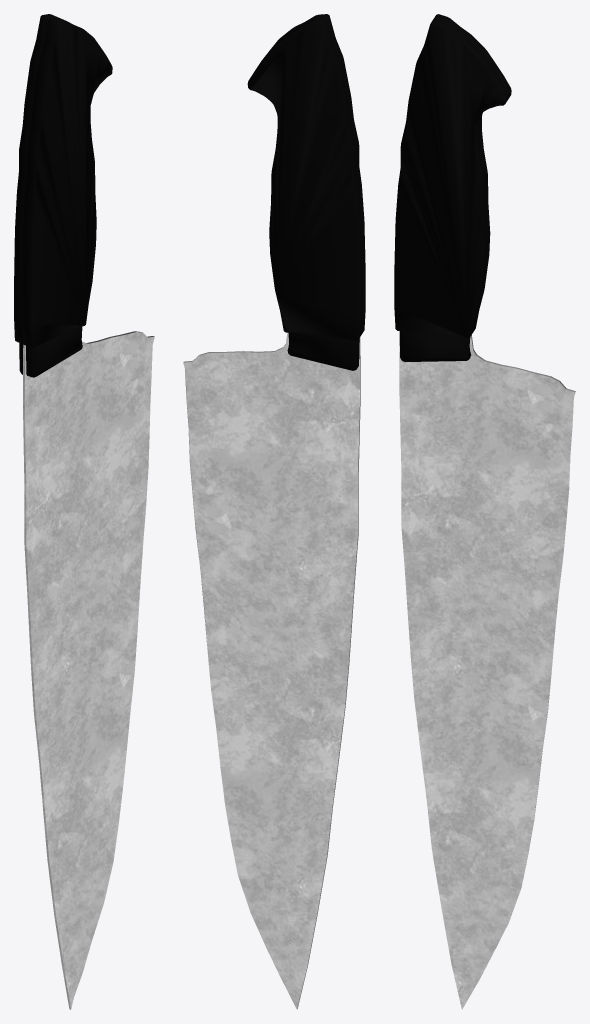
File: Low Poly Knife.obj
The picture shows the model from 3 angles, left to right: view 1: azimuth 30°, elevation 25°; view 2: azimuth 150°, elevation 25°; view 3: azimuth 330°, elevation 25°; orthographic projection.
Visible parts, largest first — view 1: Line002, Line006, Line004, Line005; view 2: Line002, Line004, Line003, Line006; view 3: Line002, Line006, Line005, Line004.
Boxes of the visible parts, bbox=[...] form: Line002: bbox=[23, 331, 154, 1009]; Line006: bbox=[21, 17, 112, 347]; Line004: bbox=[14, 14, 58, 343]; Line005: bbox=[26, 326, 82, 377]; Line002: bbox=[183, 332, 360, 1009]; Line004: bbox=[247, 18, 362, 340]; Line003: bbox=[287, 332, 359, 370]; Line006: bbox=[259, 14, 365, 334]; Line002: bbox=[399, 335, 575, 1009]; Line006: bbox=[394, 18, 508, 338]; Line005: bbox=[399, 331, 471, 361]; Line004: bbox=[434, 14, 511, 332].
Bounding box in the file's own units: 13.32 × 80.06 × 4.48.
